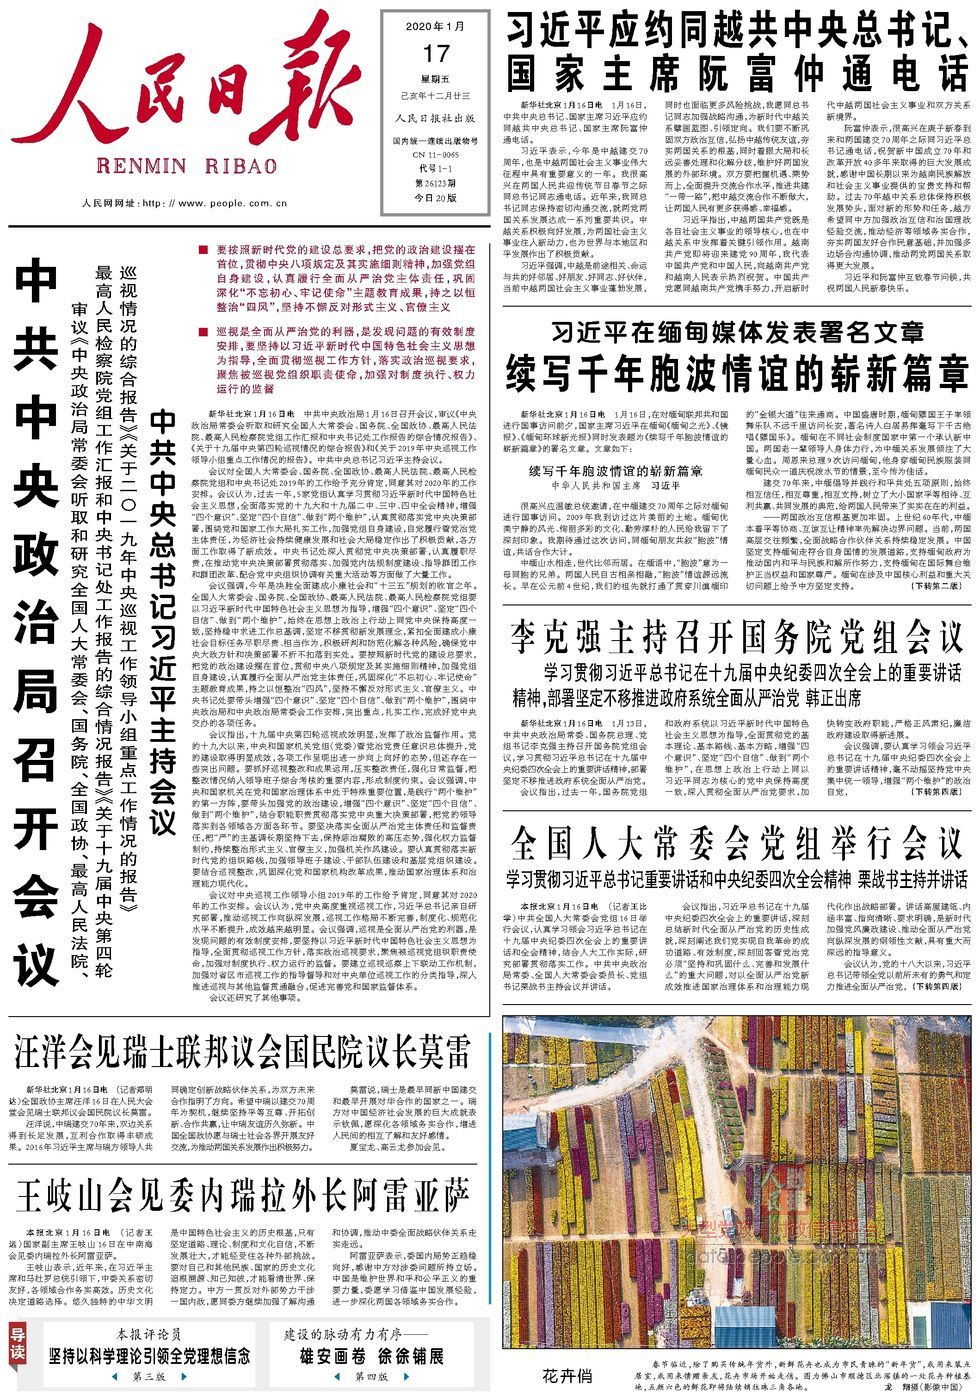pic: (497, 1010, 977, 1354)
